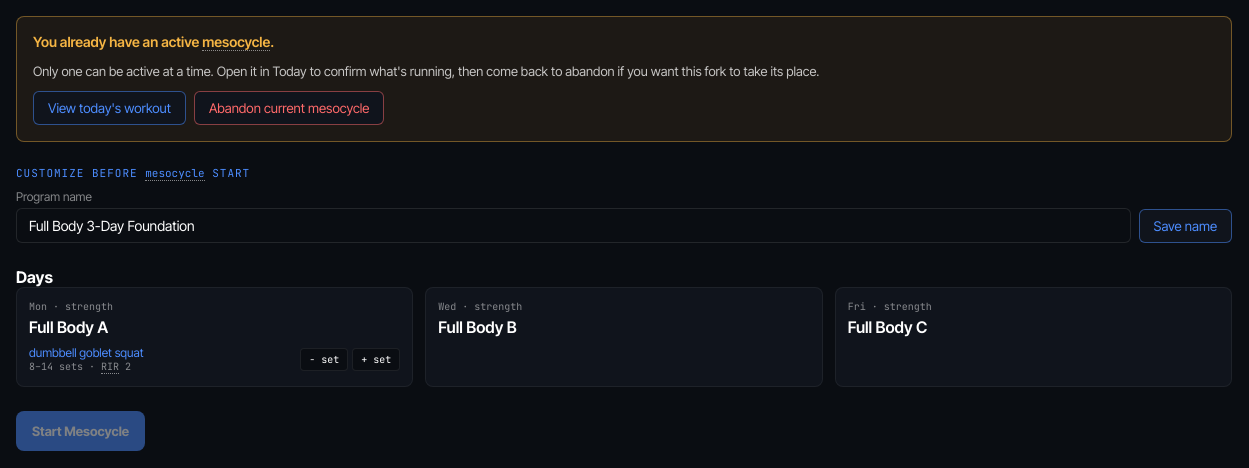
Test: <ForkWizard> › Abandon clears the conflict and re-enables Start
Expected: the message is shown, [16, 16, 1232, 142]
Click the button "Abandon current mesocycle" at (289, 108), box [194, 91, 384, 125]
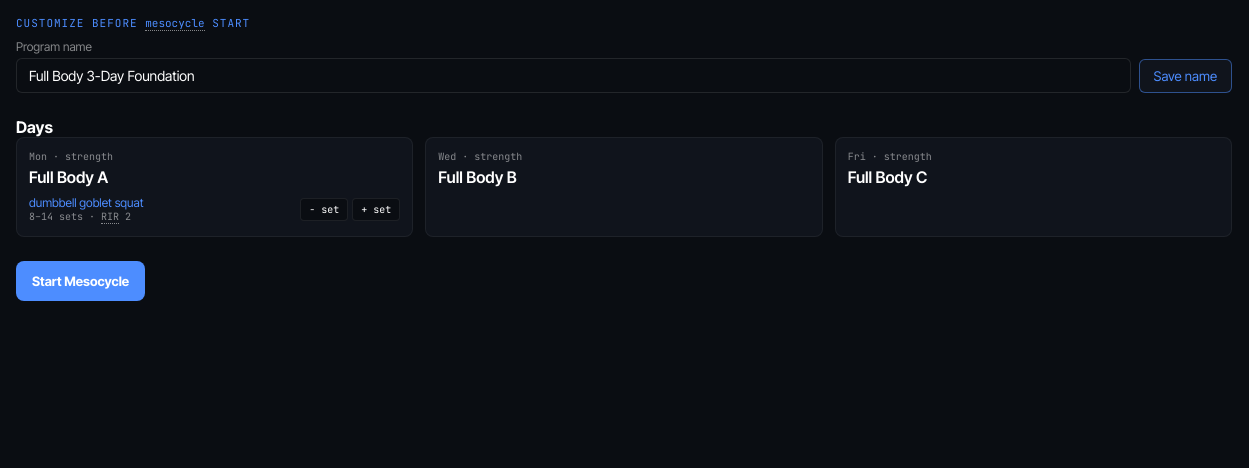
Now the button "Start Mesocycle" is enabled, box [16, 261, 145, 301]
Now the message is gone
